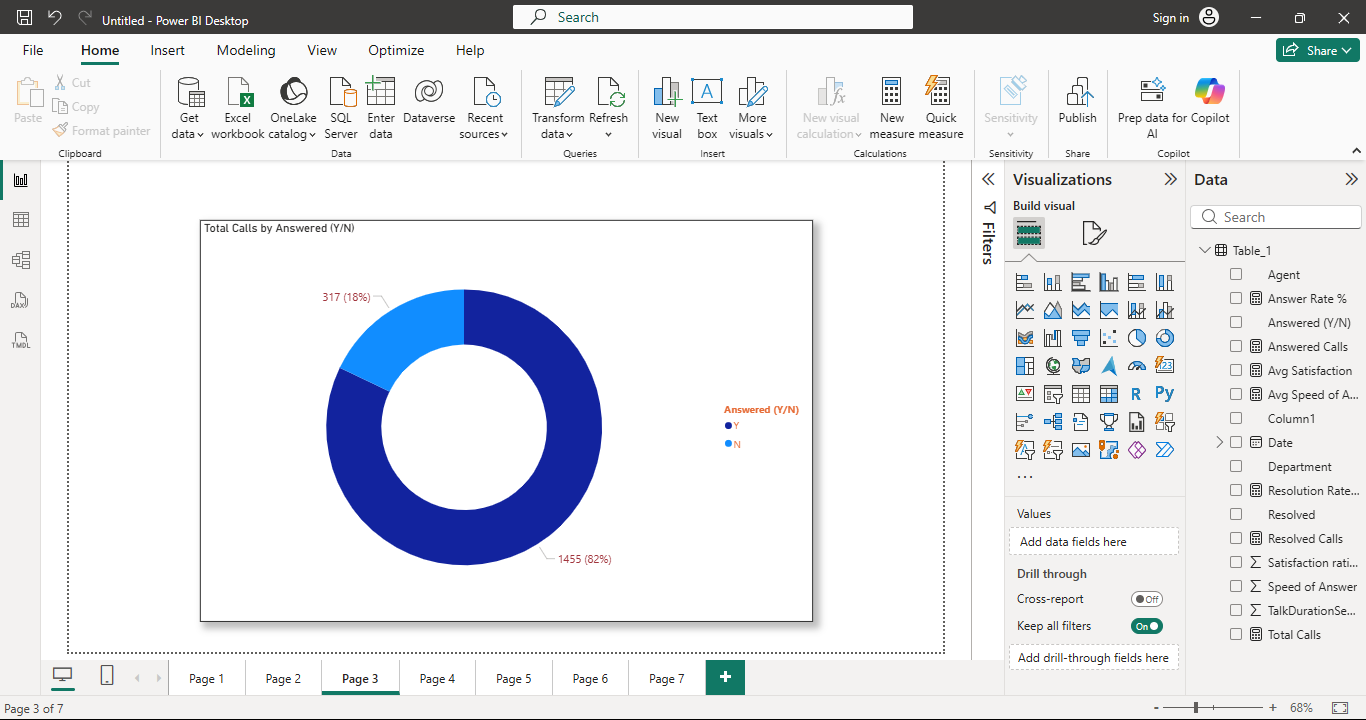

The dashboard page shown, as its layout file describes it:
{"tool":"powerbi","page":{"name":"Page 3","canvas":[1280,720],"ordinal":2},"visuals":[{"type":"donutChart","fields":{"Category":["Table_1.Answered (Y/N)"],"Y":["Table_1.Total Calls"]},"box":[191.5,87.3,897,587.9],"z":0}]}

Visuals, with their boxes on the page's 1280x720 design canvas (x1, y1, x2, y2). These are canvas units, not pixel positions in the 1366x720 screenshot, which may show the page scaled, cropped or inside an application window:
donutChart - Table_1.Answered (Y/N) x Table_1.Total Calls: [192,87,1088,675]
